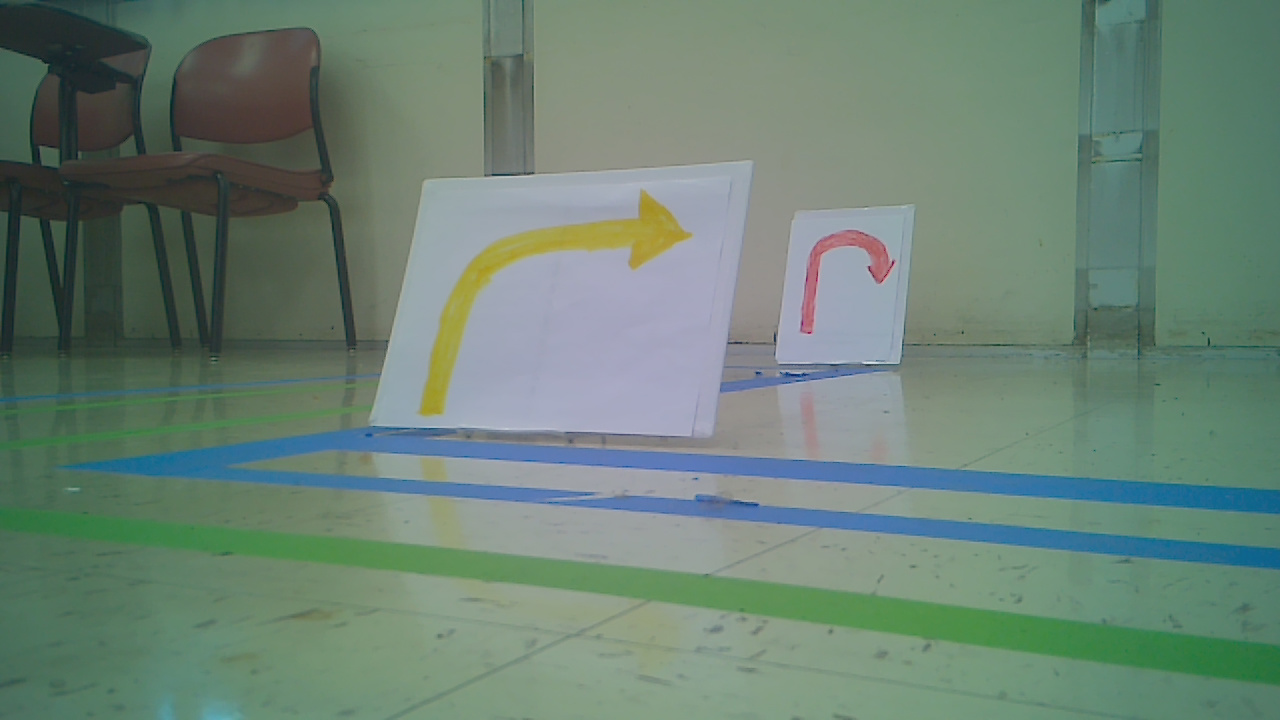greenline: (7, 503, 1266, 677)
right: (419, 187, 689, 429)
uturn: (800, 227, 895, 335)
